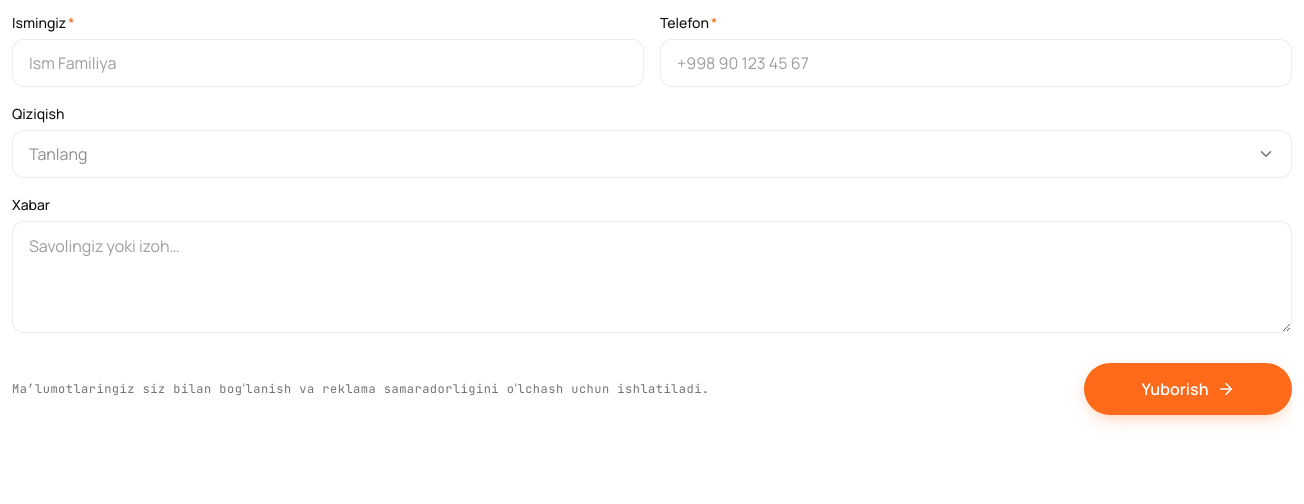
Scenario: <LeadForm /> › surfaces the first server validation detail as an error message
The image size is (1304, 504).
Type "Ali Valiyev" into the field labelled "Ismingiz*".
click(328, 63); type("Ali Valiyev")  # box [12,39,644,87]
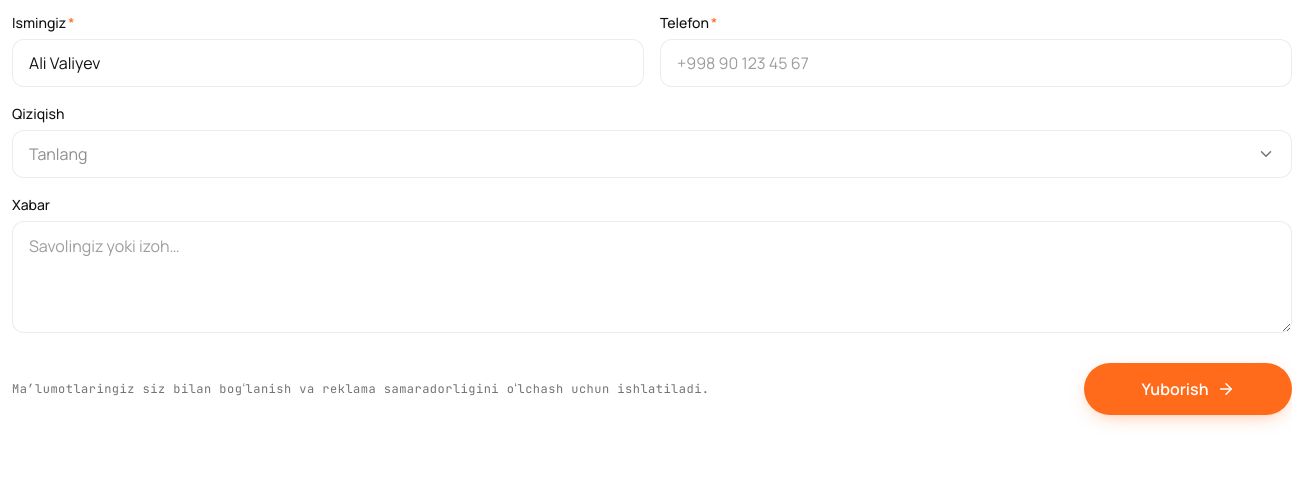
Type "1234567" into the field labelled "Telefon*".
click(976, 63); type("1234567")  # box [660,39,1292,87]
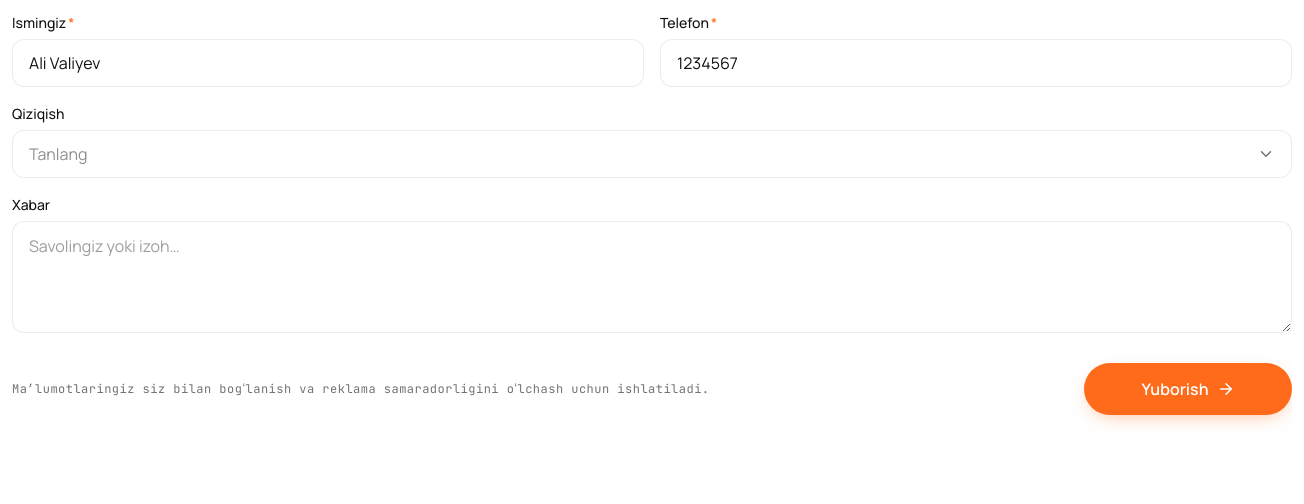
Click the button "Yuborish".
click(1188, 389)  # box [1084,363,1292,415]
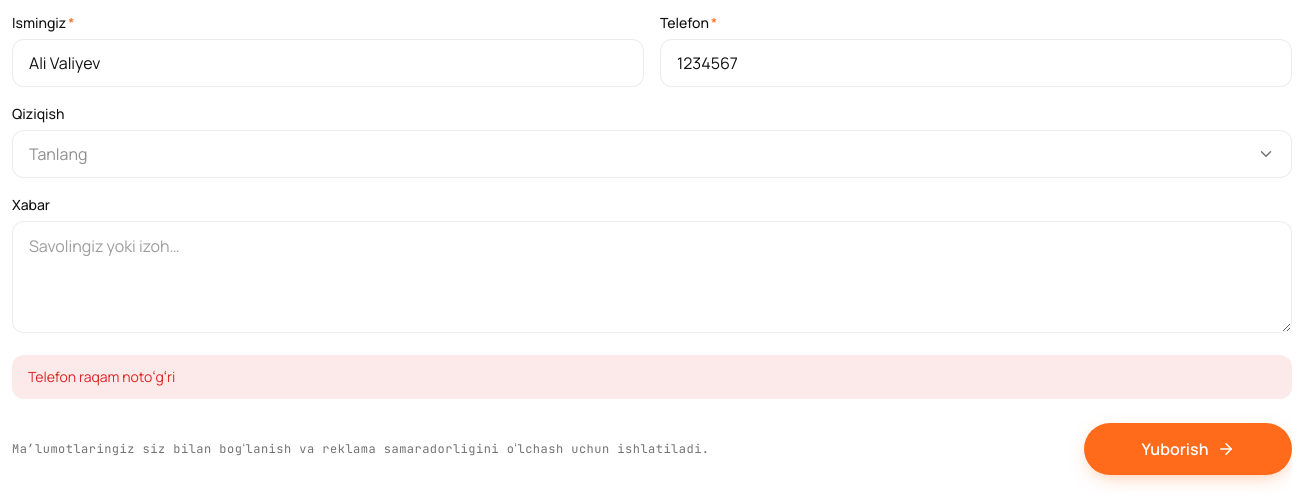
Expected: the text "Telefon raqam notoʻgʻri" is shown, [12,355,1292,399]
